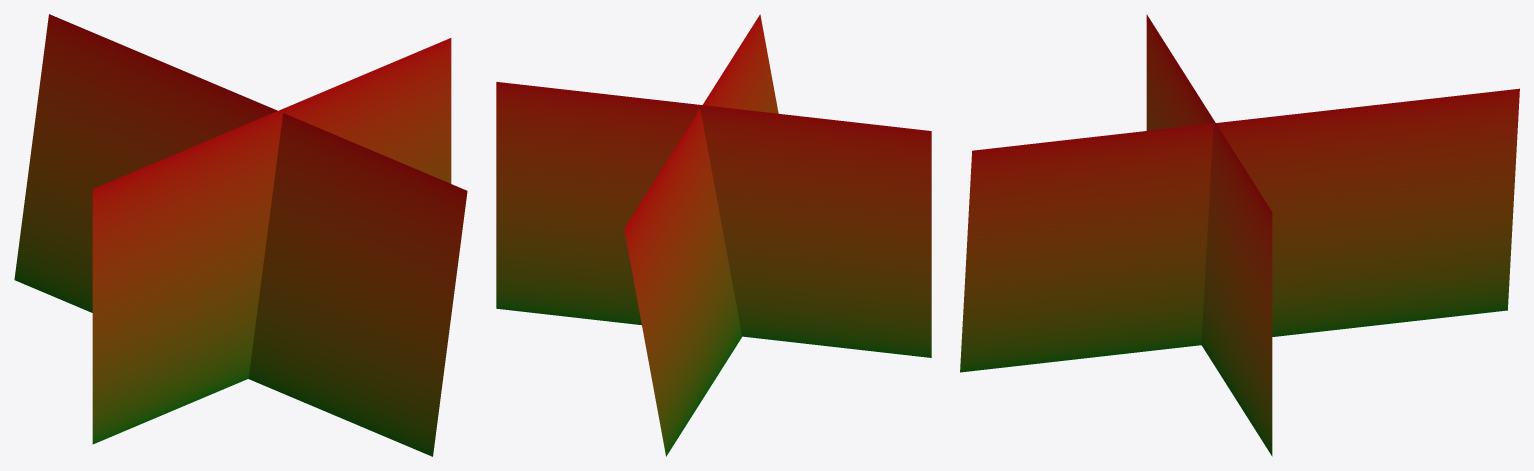
The model's file is Var3_LOD4.fbx.
The picture shows the model from 3 angles, left to right: view 1: azimuth 30°, elevation 25°; view 2: azimuth 150°, elevation 25°; view 3: azimuth 270°, elevation 25°; orthographic projection. The views are drawn at different scales.
Visible parts, largest first — view 1: _1318_Var3_LOD4; view 2: _1318_Var3_LOD4; view 3: _1318_Var3_LOD4.
Part boxes in pixels (bbox=[...]): _1318_Var3_LOD4: bbox=[14, 14, 467, 456]; _1318_Var3_LOD4: bbox=[496, 14, 931, 456]; _1318_Var3_LOD4: bbox=[960, 14, 1519, 456].
Bounding box in the file's own units: 272 × 157 × 325.
